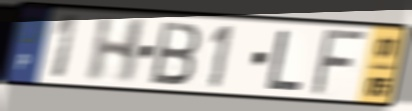1: (49, 11, 79, 82), (207, 23, 235, 89)
B: (148, 19, 203, 88)
F: (308, 28, 371, 97)
H: (83, 16, 149, 85)
L: (264, 28, 305, 93)
